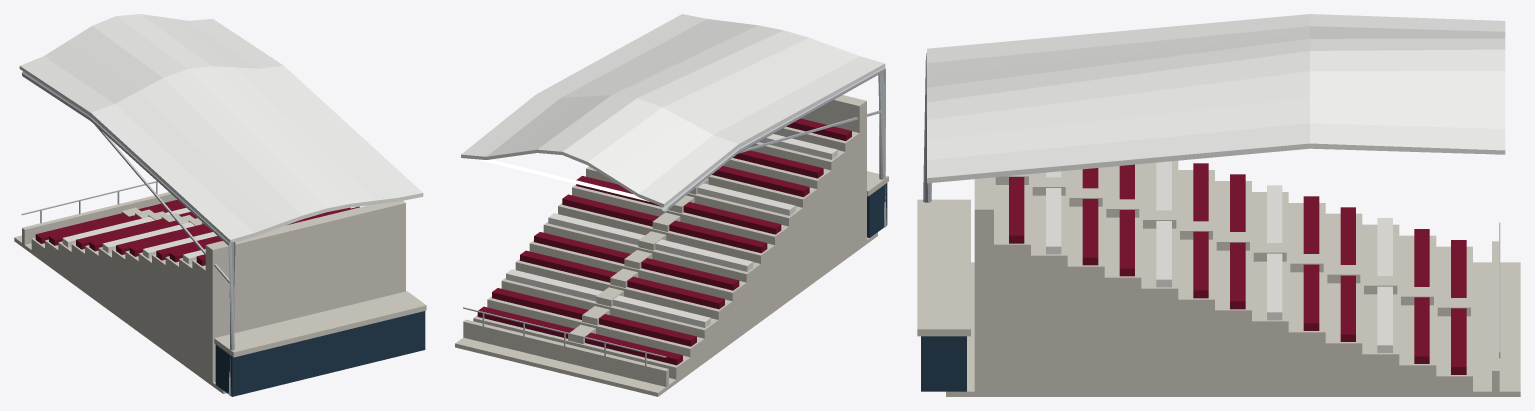
Rendered from grada-lusail.glb.
3 renders of one model, left to right at view 1: azimuth 30°, elevation 25°; view 2: azimuth 150°, elevation 25°; view 3: azimuth 270°, elevation 25°, orthographic. The views are drawn at different scales.
Parts seen in each view (by area): view 1: grada-lusail; view 2: grada-lusail; view 3: grada-lusail.
Boxes of the visible parts, left/top/right/bottom form: grada-lusail: left=14, top=14, right=426, bottom=396; grada-lusail: left=455, top=14, right=888, bottom=396; grada-lusail: left=917, top=14, right=1520, bottom=396.
Size of the model in its own units: 16.06 by 16.28 by 31.5.
